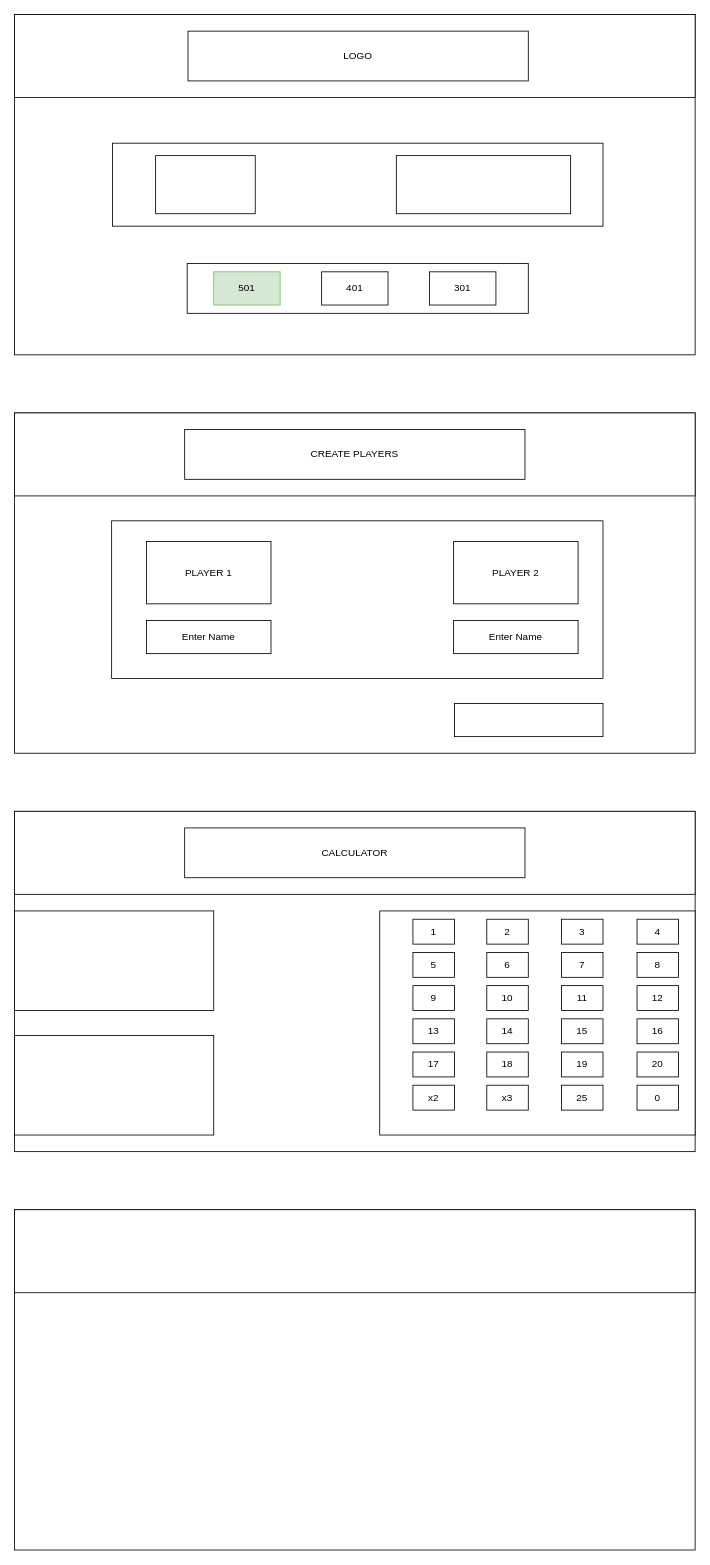
Image size: 710x1565. Some labels were removed from this diagram. Each missing label, with the box of its shape:
1 V 1: (155, 155, 255, 214)
Finish: (454, 703, 603, 737)
Start Game: (395, 155, 571, 214)
